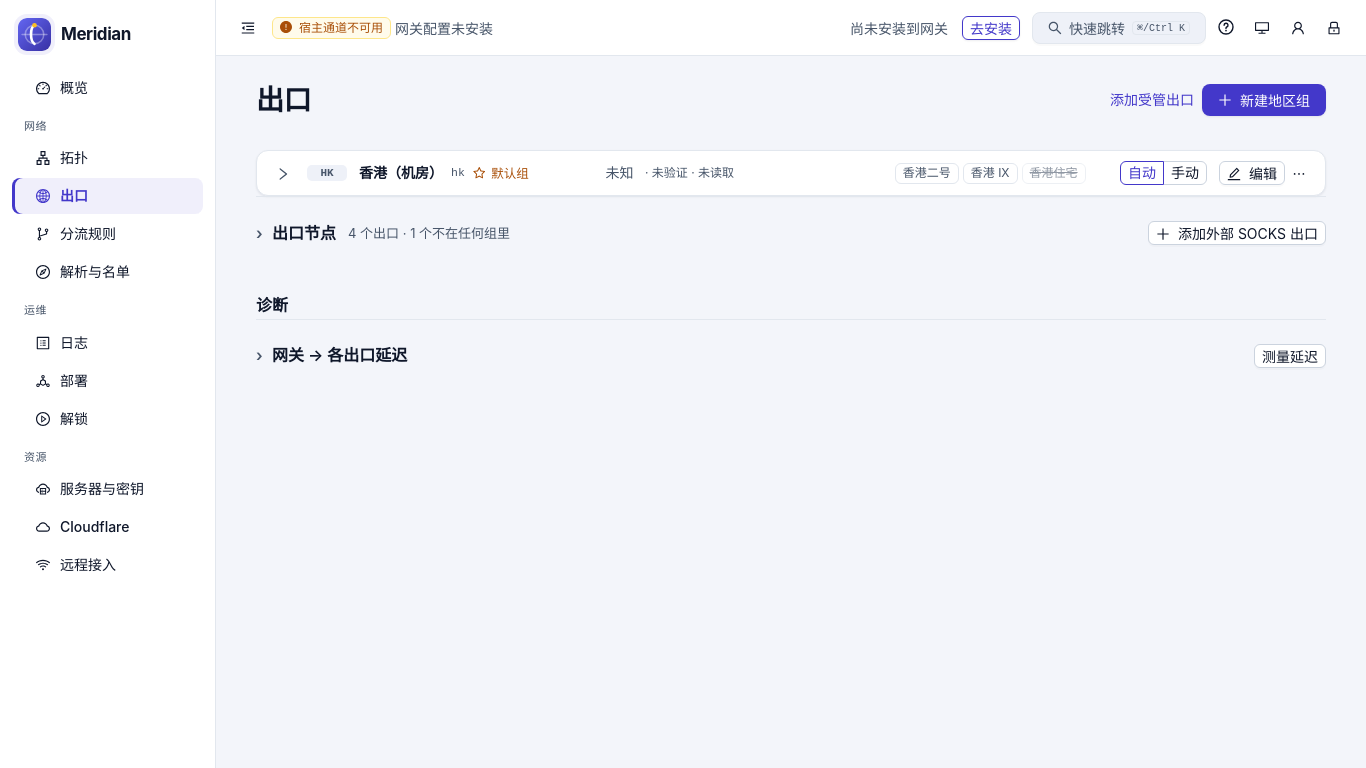
Test case: region groups › shows a failed action from a collapsed row
Click the button "手动" at (1185, 173), box 1171,164 -> 1199,181
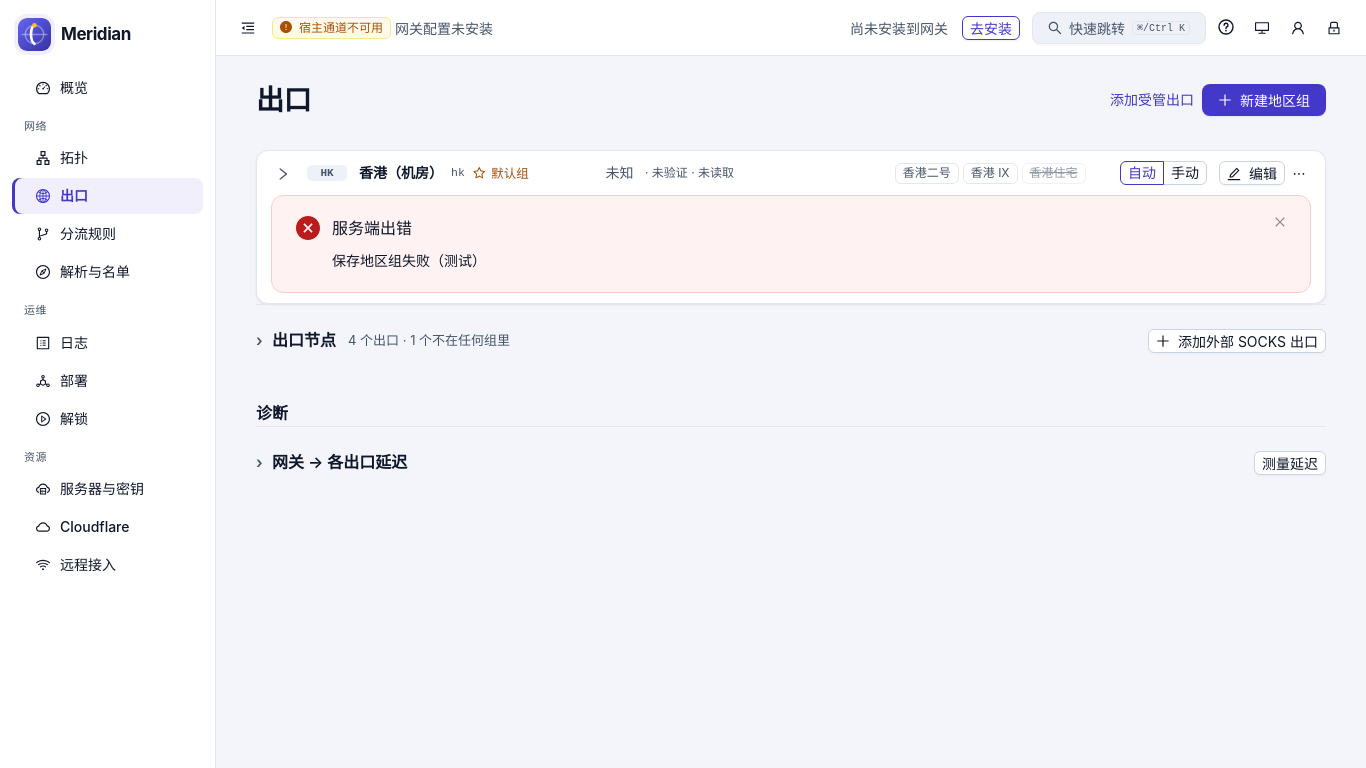
expect the text "保存地区组失败（测试）" is shown: met, box 332,252 -> 486,268
